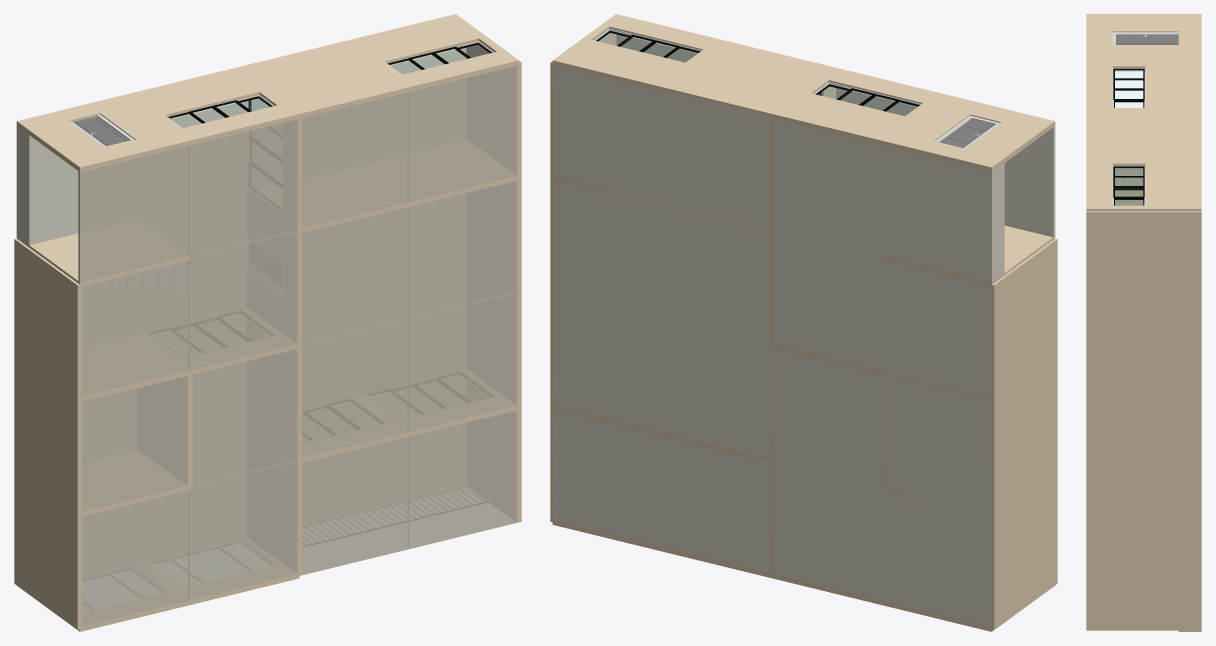
File: 3_jamesha.gltf
The picture shows the model from 3 angles, left to right: view 1: azimuth 30°, elevation 25°; view 2: azimuth 150°, elevation 25°; view 3: azimuth 270°, elevation 25°; orthographic projection. The views are drawn at different scales.
Parts seen in each view (by area): view 1: ceiling (×16), wall (×5), SIP (×4), floor (×3), Door; view 2: floor (×16), wall (×5), SIP (×5), ceiling (×3), Door; view 3: wall (×6), SIP (×3), WindowCasement (×2), Door, WindowFrame (×2), DoorFrame.
Boxes of the visible parts, left/top/right/bottom form: ceiling (×16): left=78, top=66, right=516, bottom=626; wall (×5): left=14, top=41, right=521, bottom=629; SIP (×4): left=16, top=14, right=519, bottom=286; floor (×3): left=16, top=48, right=466, bottom=245; Door: left=73, top=116, right=129, bottom=146; floor (×16): left=552, top=65, right=1004, bottom=626; wall (×5): left=550, top=33, right=1057, bottom=629; SIP (×5): left=552, top=14, right=1055, bottom=287; ceiling (×3): left=616, top=34, right=1055, bottom=237; Door: left=940, top=119, right=994, bottom=147; wall (×6): left=1086, top=111, right=1201, bottom=630; SIP (×3): left=1086, top=14, right=1201, bottom=211; WindowCasement (×2): left=1113, top=68, right=1144, bottom=205; Door: left=1116, top=35, right=1178, bottom=44; WindowFrame (×2): left=1112, top=67, right=1145, bottom=205; DoorFrame: left=1112, top=32, right=1178, bottom=45.
Size of the model in its own units: 14.15 by 14.15 by 3.5.
